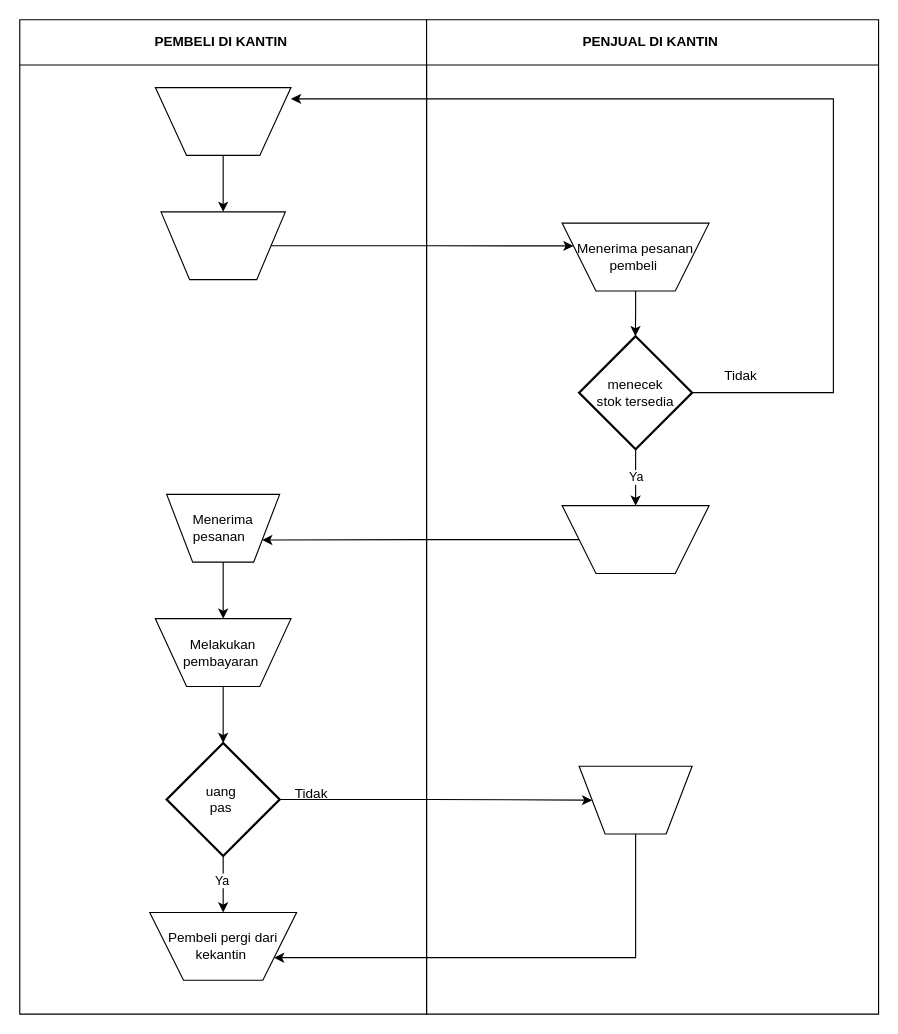
This 898x1034 diagram has some shape labels left out. The shapes that lost their labels are listed below. From the top down, each one's centre as x and y in pixels, then its label:
At (x=222, y=120): "Pembeli pergi ke kantin dan memilih".
At (x=222, y=245): "Pembeli memesan makanan/ minuman".
At (x=635, y=539): "Memproses pesanan dan menyiapkan pesanan".
At (x=635, y=799): "memberikan kembaliaan".
